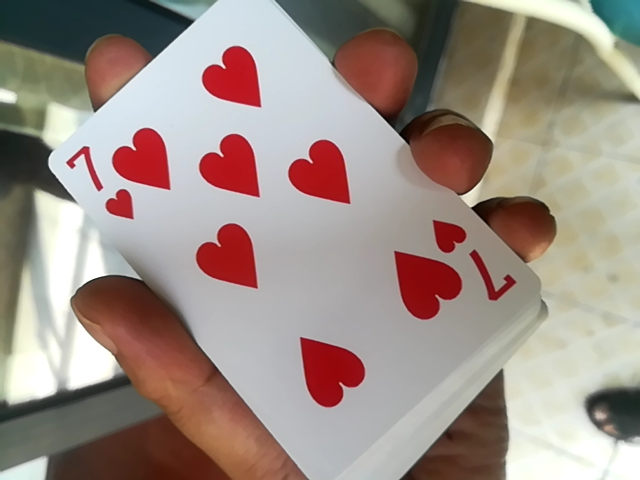hx 7: (50, 2, 523, 475)
